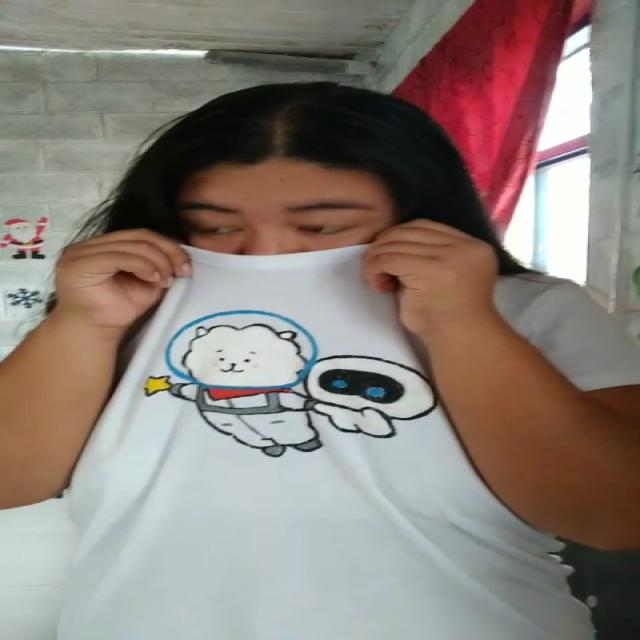8_ropa_rostro: (53, 221, 505, 375)
